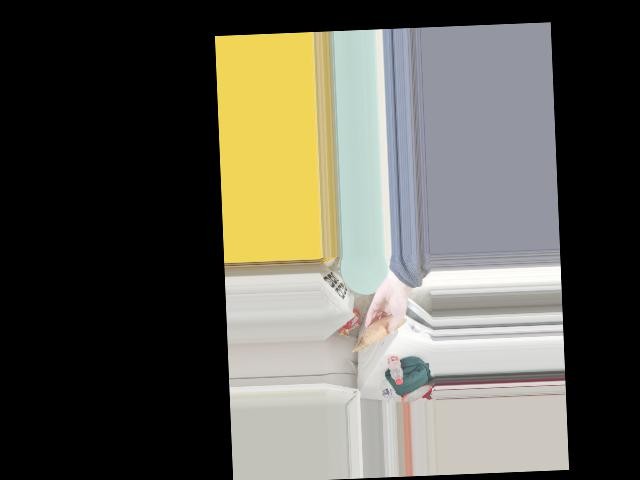sweet_potato: (364, 315, 398, 343)
